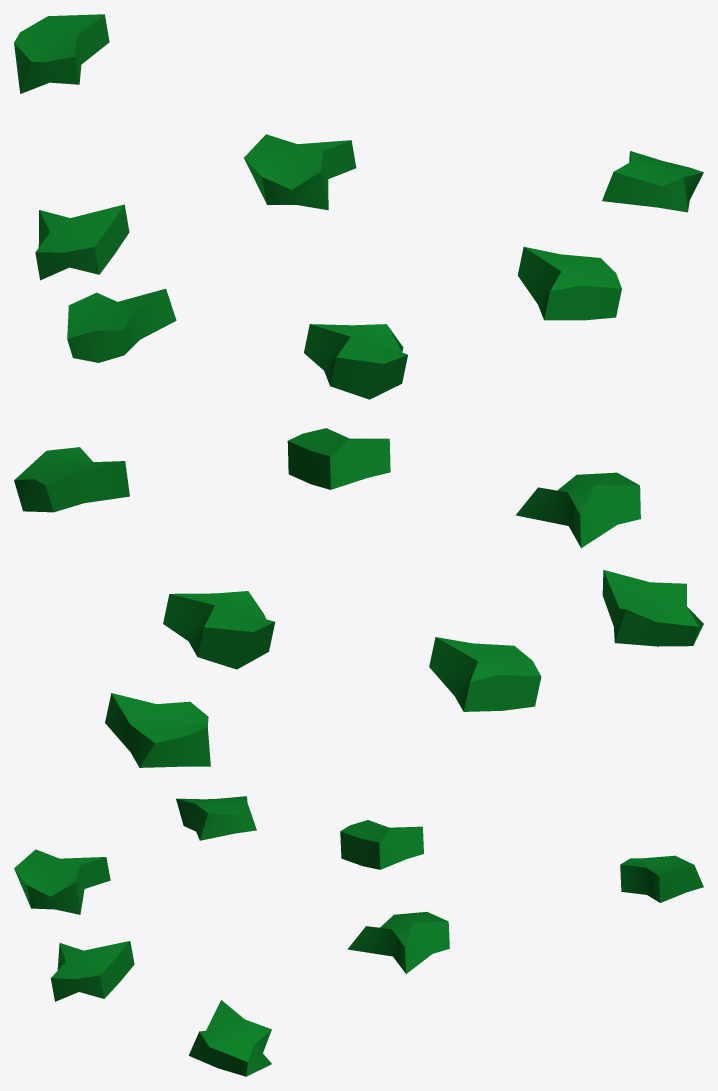
File: Peppers_Chopped.FBX
The picture shows the model from 3 angles, top to bottom: view 1: azimuth 30°, elevation 25°; view 2: azimuth 150°, elevation 25°; view 3: azimuth 270°, elevation 25°; orthographic projection. The views are drawn at different scales.
Parts seen in each view (by area): view 1: Green_peppers003; view 2: Green_peppers003; view 3: Green_peppers003.
Boxes of the visible parts, box(x1,y1,x2,y2) form: Green_peppers003: box(14, 14, 703, 399); Green_peppers003: box(14, 428, 703, 767); Green_peppers003: box(14, 796, 703, 1076).
Size of the model in its own units: 4.42 by 0.5626 by 4.9.
